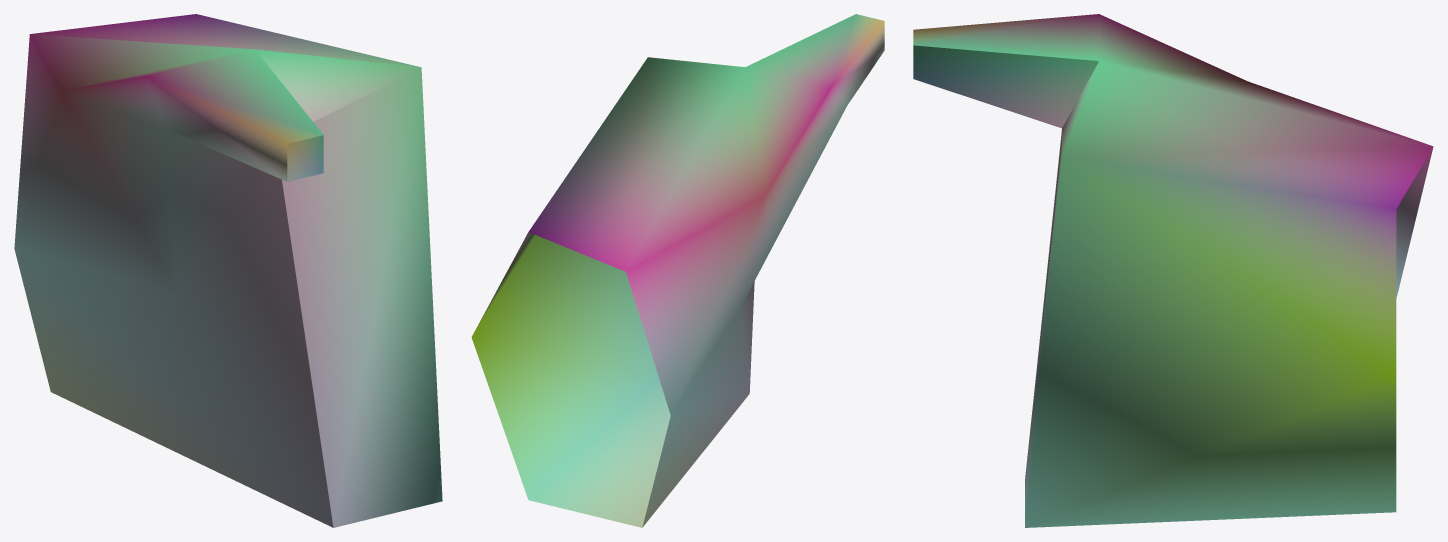
The picture shows the model from 3 angles, left to right: view 1: azimuth 30°, elevation 25°; view 2: azimuth 150°, elevation 25°; view 3: azimuth 270°, elevation 25°; orthographic projection. The views are drawn at different scales.
Parts seen in each view (by area): view 1: part; view 2: part; view 3: part.
Part boxes in pixels (x1,y1,x2,y2): part: (14, 14, 442, 527); part: (471, 14, 884, 527); part: (913, 14, 1433, 527).
Size of the model in its own units: 8 by 12 by 14.
